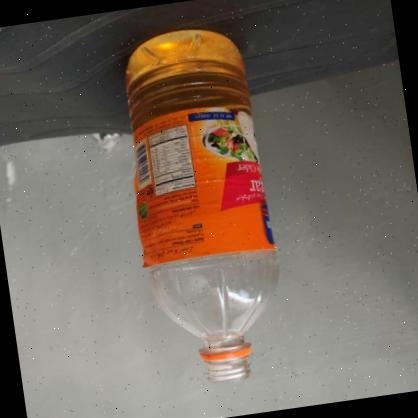bottle: (119, 30, 292, 392)
label: (134, 104, 270, 266)
